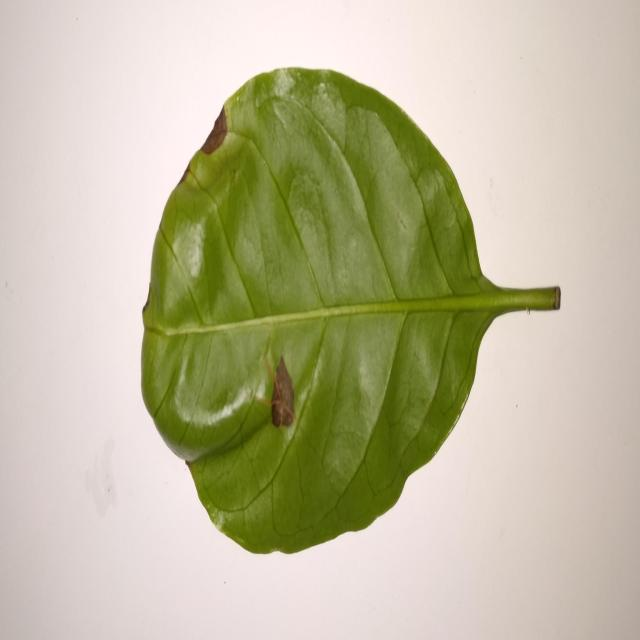Enfermedad-Antracnosis: (140, 67, 562, 558)
